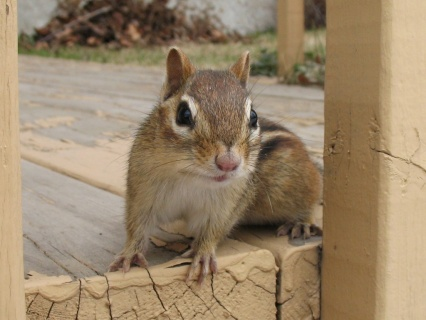Squirrel: (101, 43, 324, 288)
